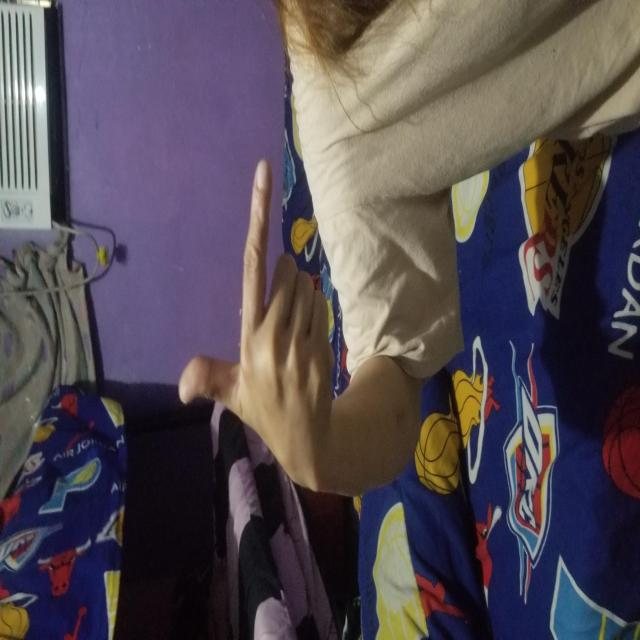G: (204, 178, 479, 334)
